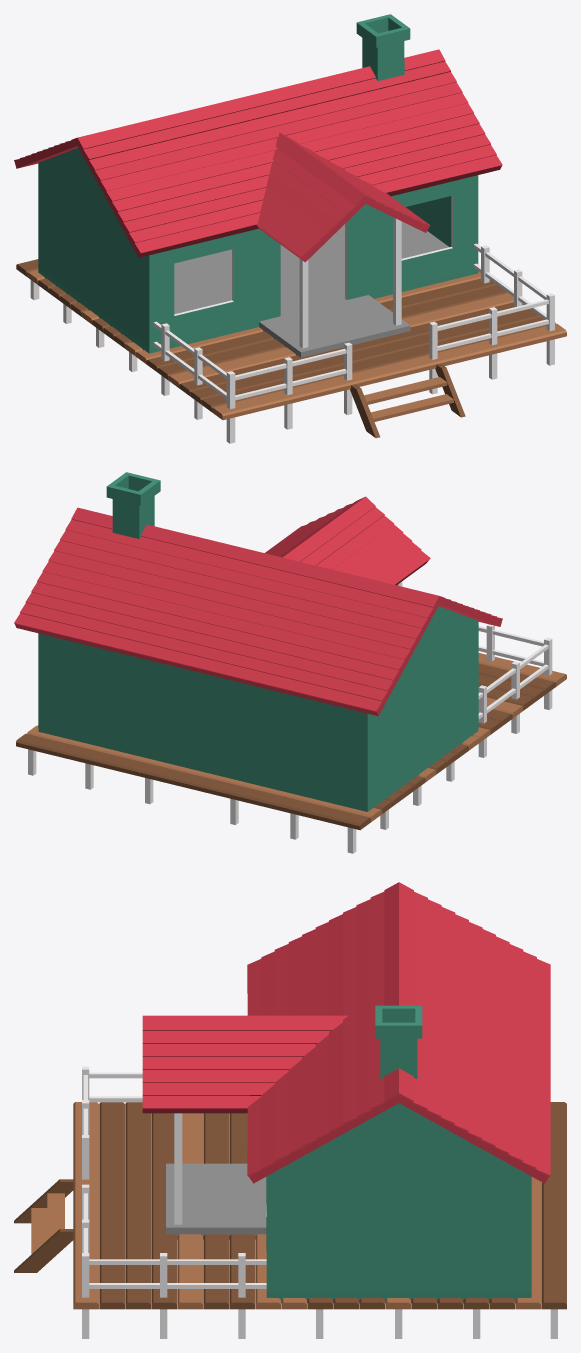
File: 031 House_5.FBX
The picture shows the model from 3 angles, top to bottom: view 1: azimuth 30°, elevation 25°; view 2: azimuth 150°, elevation 25°; view 3: azimuth 270°, elevation 25°; orthographic projection. The views are drawn at different scales.
Parts seen in each view (by area): view 1: Box221, Box240, Box241, Box242, Box238, Box243, Box239, Box236, Box235, Box234, Box237, Box233; view 2: Box221, Box222, Box242, Box223, Box241, Box240, Box239, Box238; view 3: Box221, Box241, Box239, Box238, Box222, Box240, Box237, Box243, Box235, Box236, Box234, Box242 (+2 smaller).
Part boxes in pixels (bbox=[...]): Box221: bbox=[14, 14, 502, 357]; Box240: bbox=[212, 323, 566, 420]; Box241: bbox=[30, 243, 554, 394]; Box242: bbox=[153, 321, 352, 443]; Box238: bbox=[190, 309, 540, 403]; Box243: bbox=[350, 363, 465, 438]; Box239: bbox=[201, 317, 555, 411]; Box236: bbox=[168, 293, 513, 387]; Box235: bbox=[157, 285, 507, 380]; Box234: bbox=[146, 278, 496, 372]; Box237: bbox=[179, 302, 529, 395]; Box233: bbox=[136, 271, 480, 364]; Box221: bbox=[14, 472, 502, 811]; Box222: bbox=[16, 733, 370, 830]; Box242: bbox=[478, 624, 552, 757]; Box223: bbox=[27, 725, 381, 821]; Box241: bbox=[28, 749, 454, 853]; Box240: bbox=[478, 653, 566, 686]; Box239: bbox=[478, 663, 555, 694]; Box238: bbox=[478, 674, 545, 702]; Box221: bbox=[142, 882, 550, 1302]; Box241: bbox=[82, 1184, 557, 1338]; Box239: bbox=[99, 1102, 124, 1309]; Box238: bbox=[125, 1102, 150, 1309]; Box222: bbox=[541, 1102, 566, 1309]; Box240: bbox=[73, 1102, 98, 1309]; Box237: bbox=[151, 1113, 176, 1309]; Box243: bbox=[14, 1179, 73, 1272]; Box235: bbox=[203, 1113, 228, 1309]; Box236: bbox=[177, 1113, 202, 1309]; Box234: bbox=[229, 1113, 254, 1309]; Box242: bbox=[82, 1066, 142, 1179].
Bounding box in the file's own units: 681 × 457 × 754.
